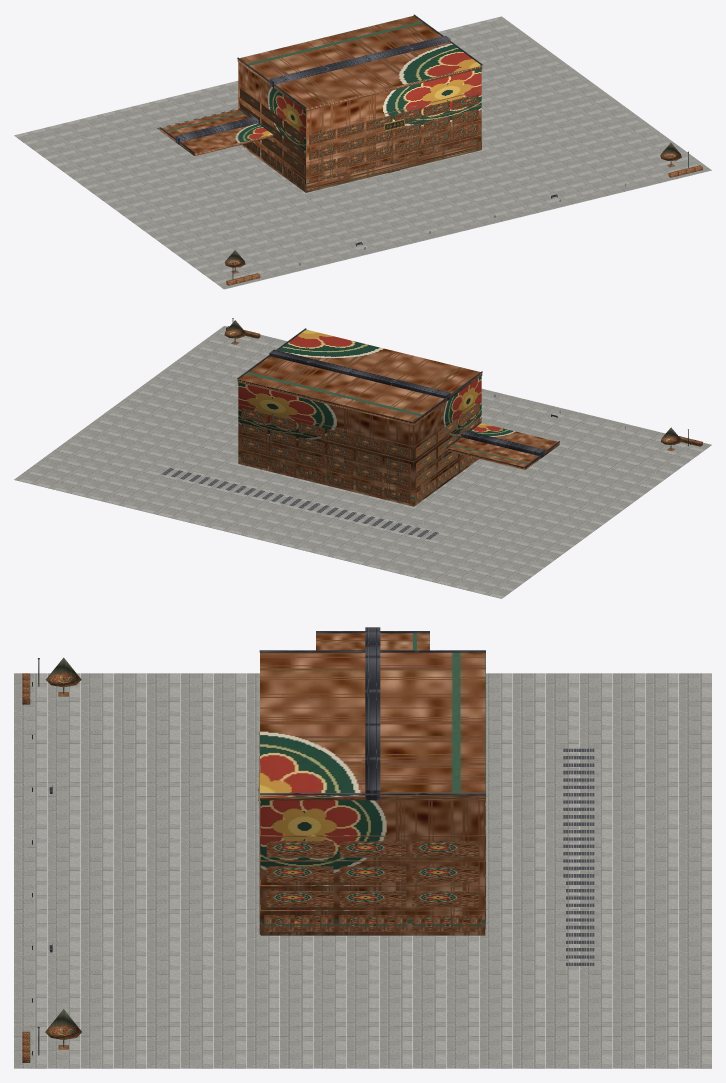
The picture shows the model from 3 angles, top to bottom: view 1: azimuth 30°, elevation 25°; view 2: azimuth 150°, elevation 25°; view 3: azimuth 270°, elevation 25°; orthographic projection. The views are drawn at different scales.
Parts seen in each view (by area): view 1: 11710_01_05855_032_01__plinth_ground_base, 11710_01_05855_032_02__mass_body_facade, 11710_01_05855_032_03__roof_metal_ornament, 11710_01_05855_032_05__window_sash_glass, 11710_01_05855_032_06__landscape_greenery; view 2: 11710_01_05855_032_01__plinth_ground_base, 11710_01_05855_032_02__mass_body_facade, 11710_01_05855_032_03__roof_metal_ornament, 11710_01_05855_032_03__roof_deck_structure, 11710_01_05855_032_06__landscape_greenery; view 3: 11710_01_05855_032_01__plinth_ground_base, 11710_01_05855_032_02__mass_body_facade, 11710_01_05855_032_03__roof_metal_ornament, 11710_01_05855_032_03__roof_deck_structure, 11710_01_05855_032_06__landscape_greenery.
Part boxes in pixels (x1,y1,x2,y2): 11710_01_05855_032_01__plinth_ground_base: (14,16,711,289); 11710_01_05855_032_02__mass_body_facade: (160,15,482,192); 11710_01_05855_032_03__roof_metal_ornament: (160,14,482,153); 11710_01_05855_032_05__window_sash_glass: (317,110,470,181); 11710_01_05855_032_06__landscape_greenery: (224,143,702,285); 11710_01_05855_032_01__plinth_ground_base: (14,326,711,598); 11710_01_05855_032_02__mass_body_facade: (237,329,559,506); 11710_01_05855_032_03__roof_metal_ornament: (237,328,559,467); 11710_01_05855_032_03__roof_deck_structure: (162,468,438,539); 11710_01_05855_032_06__landscape_greenery: (224,320,702,450); 11710_01_05855_032_01__plinth_ground_base: (14,673,711,1068); 11710_01_05855_032_02__mass_body_facade: (259,633,485,935); 11710_01_05855_032_03__roof_metal_ornament: (259,627,485,800); 11710_01_05855_032_03__roof_deck_structure: (563,748,594,965); 11710_01_05855_032_06__landscape_greenery: (22,657,81,1062).
Size of the model in its own units: 150 by 27 by 112.
Materials: 7 (7 with a texture image).
